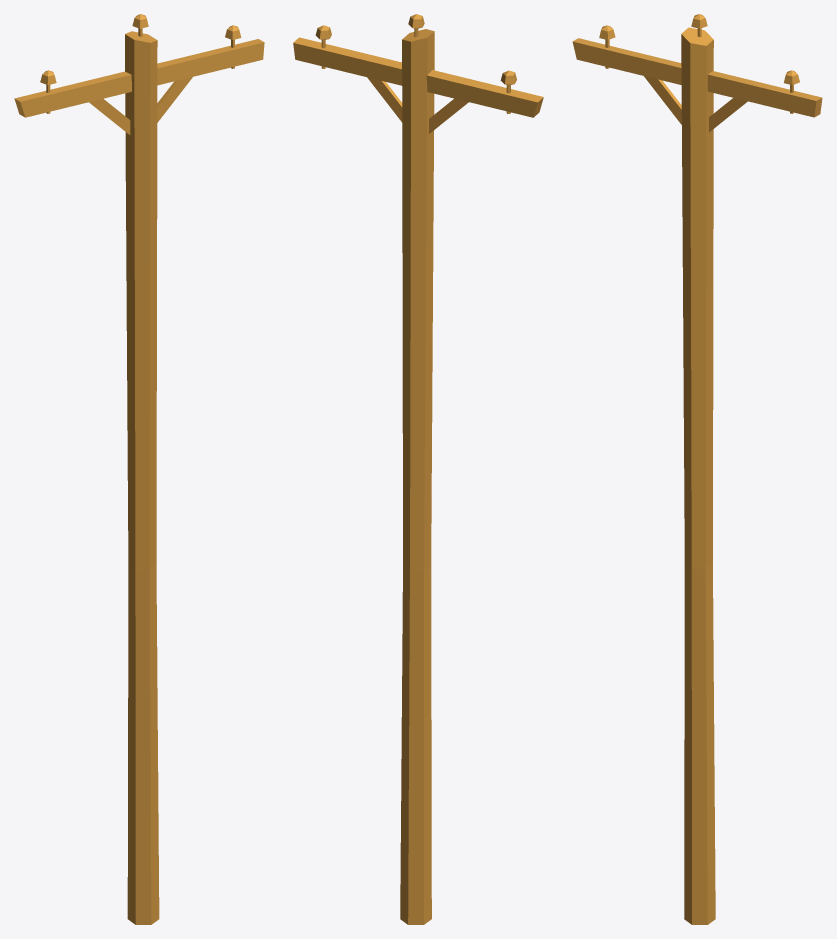
The model's file is pole-electric.fbx.
3 renders of one model, left to right at view 1: azimuth 30°, elevation 25°; view 2: azimuth 150°, elevation 25°; view 3: azimuth 330°, elevation 25°, orthographic.
Visible parts, largest first — view 1: pole-electric; view 2: pole-electric; view 3: pole-electric.
Part boxes in pixels (x1,y1,x2,y2): pole-electric: (14, 14, 264, 924); pole-electric: (293, 14, 543, 924); pole-electric: (572, 14, 822, 924).
Bounding box in the file's own units: 2.4 × 8.49 × 0.2847.
